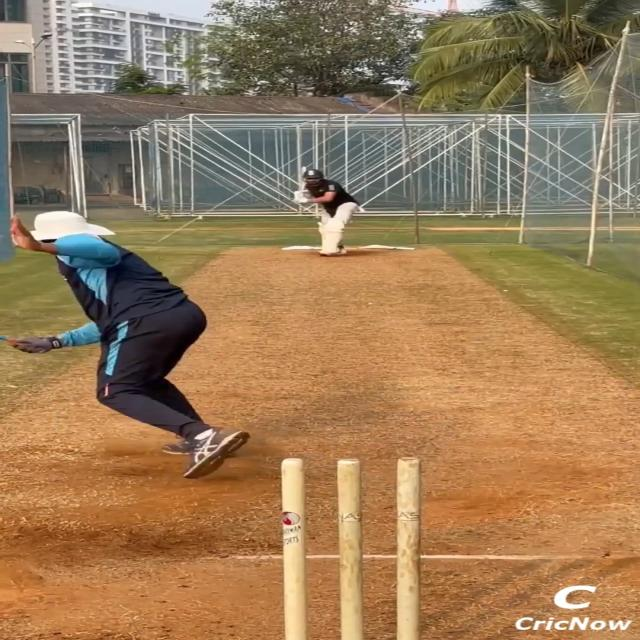stump: (276, 454, 426, 640)
